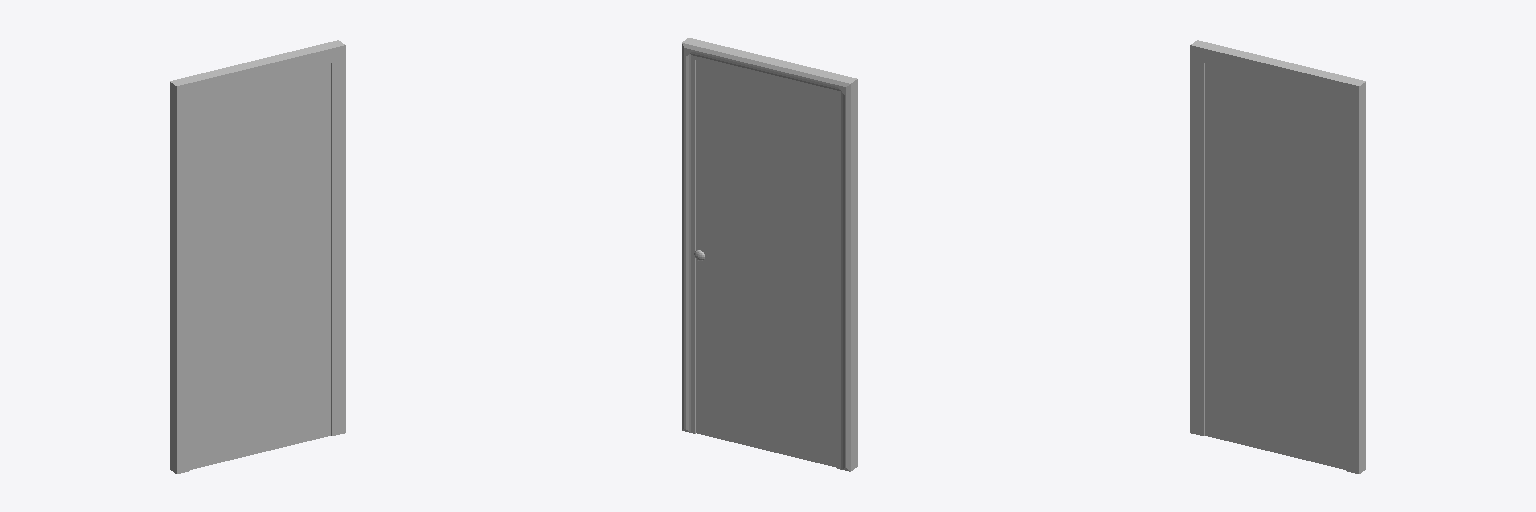
The model's file is porta1.obj.
3 views of the same model, side by side, from view 1: azimuth 30°, elevation 25°; view 2: azimuth 150°, elevation 25°; view 3: azimuth 330°, elevation 25° (orthographic).
Parts seen in each view (by area): view 1: parta_interna_1.2; view 2: parta_interna_1.2; view 3: parta_interna_1.2.
Part boxes in pixels (x1,y1,x2,y2): parta_interna_1.2: (170,40,345,473); parta_interna_1.2: (682,38,857,471); parta_interna_1.2: (1190,40,1365,473).
Bounding box in the file's own units: 97.4 × 214 × 10.37.